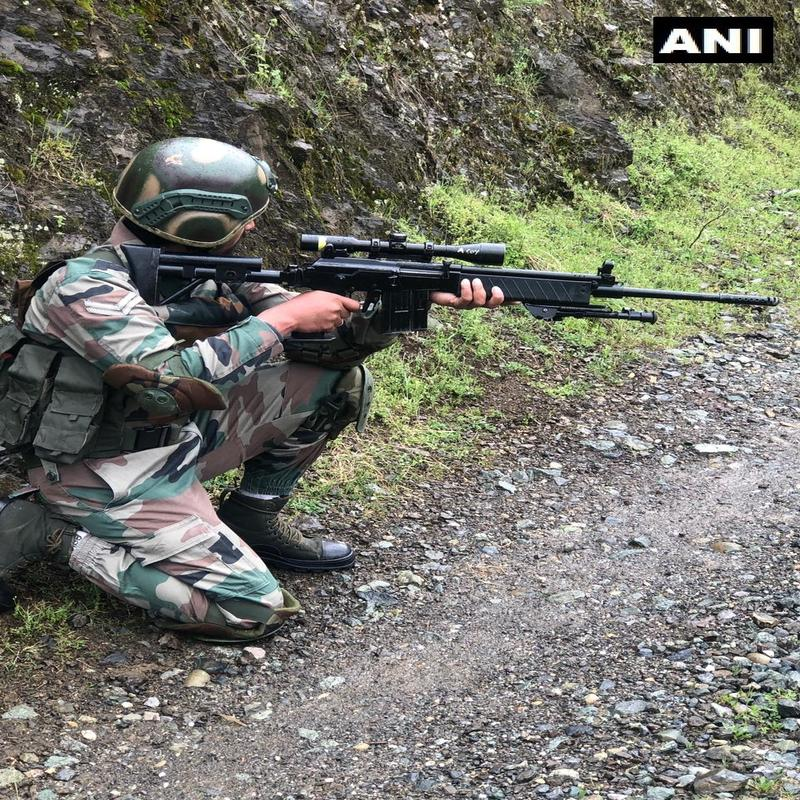GUN: (107, 216, 799, 417)
